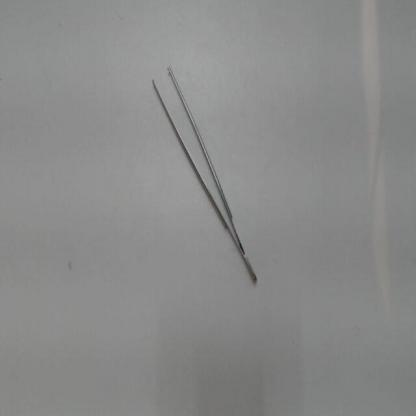Gillies Toothed Dissector: (143, 47, 268, 296)
